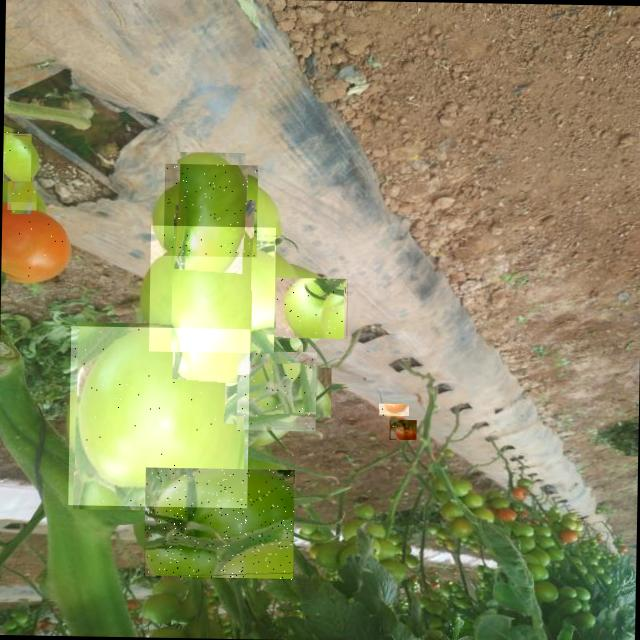Ripe Tomato: (1, 202, 66, 284), (389, 420, 416, 440), (378, 403, 408, 416)
Unripe Tomato: (68, 326, 250, 508), (143, 467, 294, 580), (148, 225, 276, 353), (163, 163, 258, 257), (236, 350, 316, 430), (275, 277, 350, 338), (2, 129, 32, 181), (6, 180, 36, 210)
